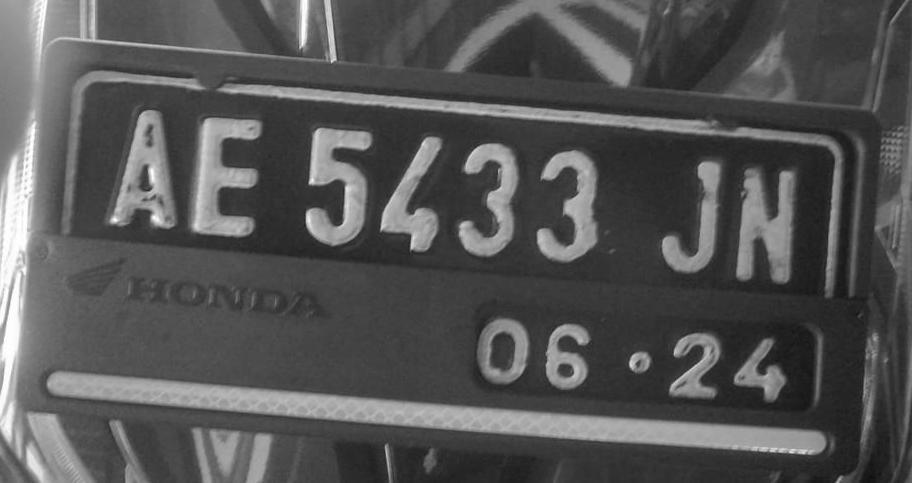3: (450, 128, 539, 262), (532, 137, 615, 269)
4: (371, 120, 460, 262)
5: (292, 110, 386, 259)
A: (91, 90, 197, 239)
E: (182, 101, 279, 253)
J: (647, 142, 736, 281)
N: (721, 147, 810, 287)
